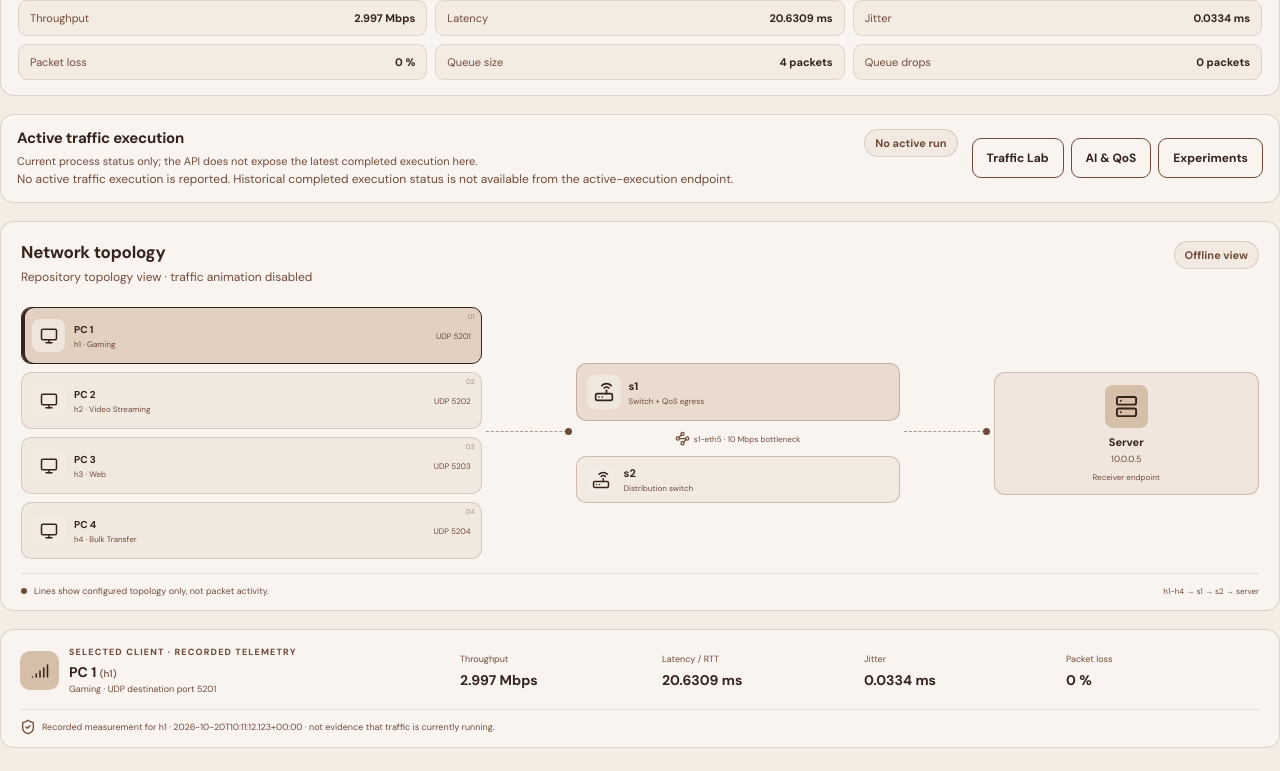
Test: Dashboard recorded telemetry › keeps selected-client values tied to the actual record source
The image size is (1280, 771).
(page scrolled)
What coordinates should you click on to do the following:
click the button "PC 2 h2 · Video Streaming UDP 5202 02"
I would click on:
 (48, 401)
Its box is [21,372,482,429].
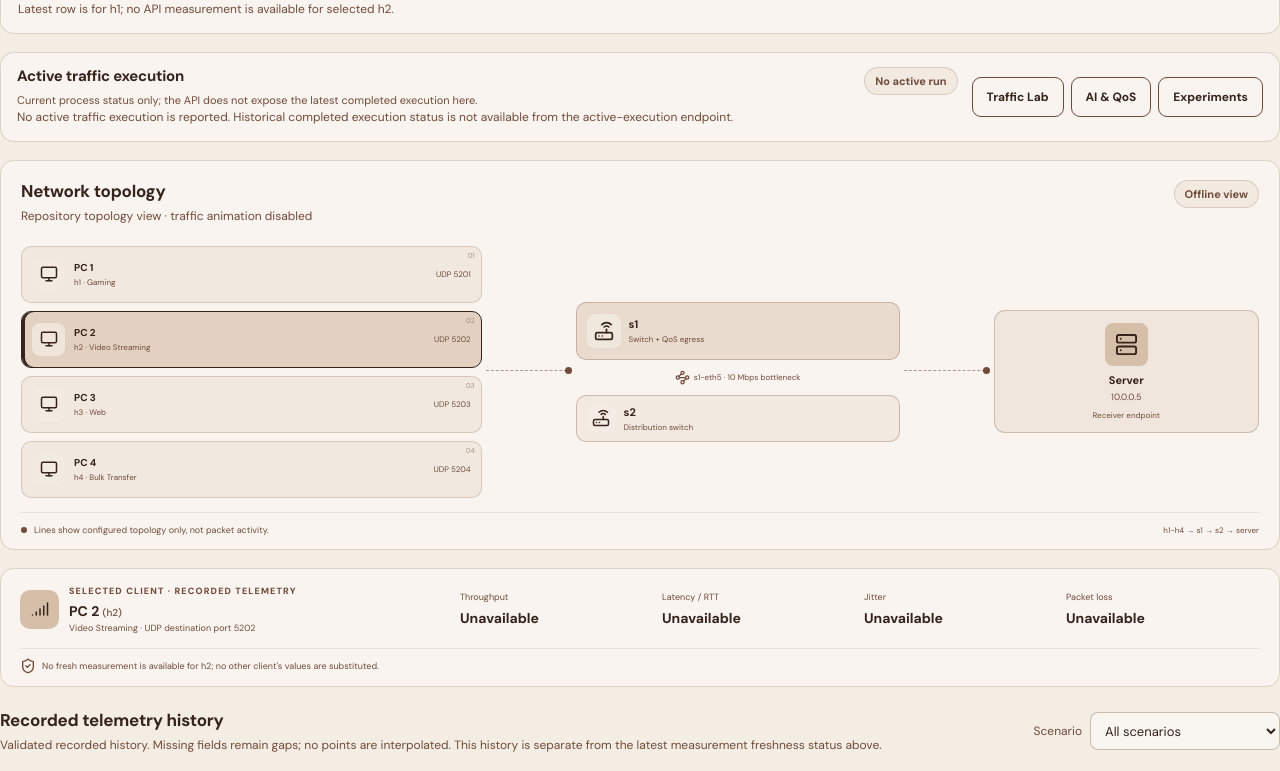
Check: the text "Latest row is for h1; no API measurement is available for selected h2." is shown, box [18,1,394,17]
Check: the text "No fresh measurement is available for h2" is shown, box [42,660,379,672]
Check: the element with class "flow-detail__metrics" shows "Unavailable", box [460,609,539,627]
